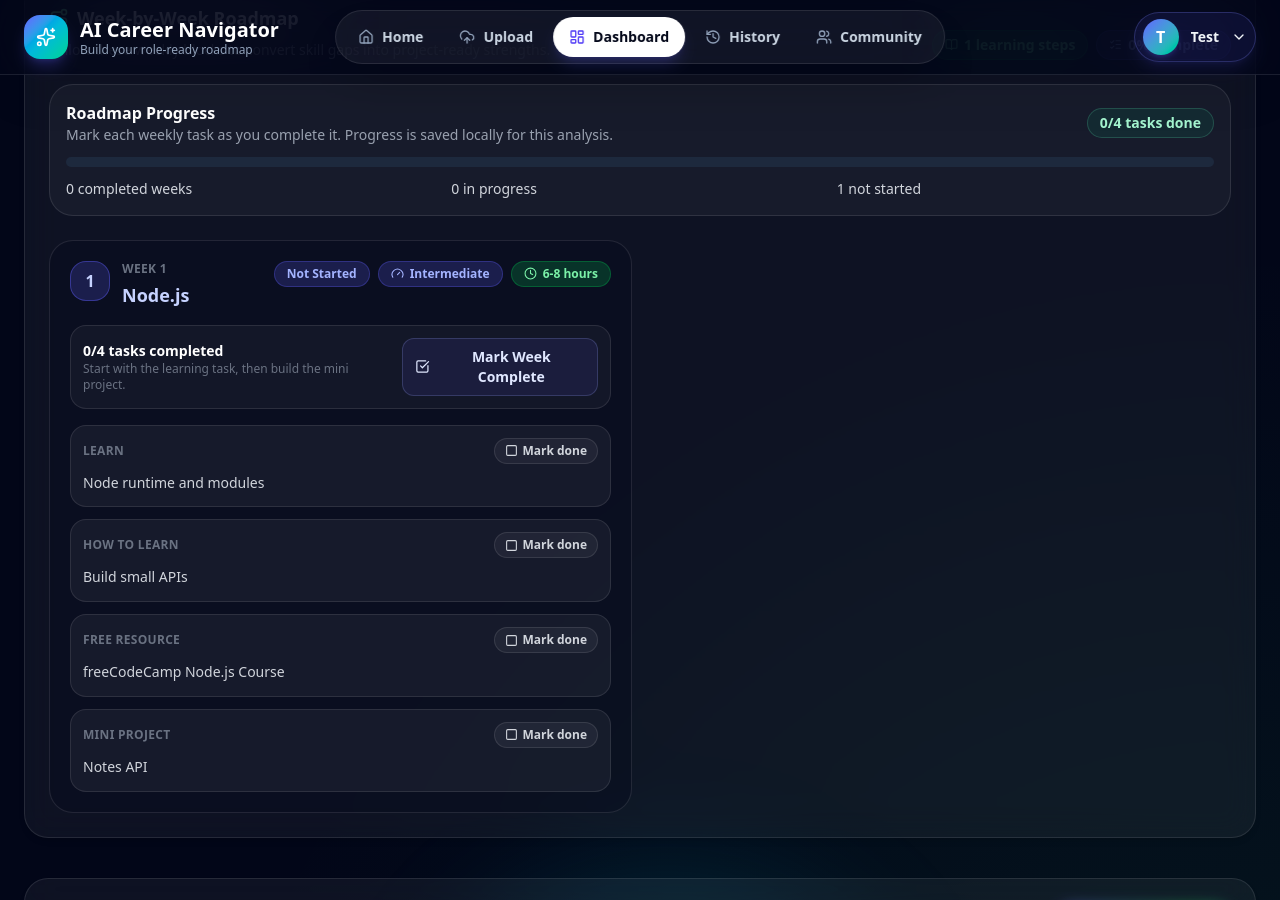
Test: Dashboard Page › lets users mark roadmap tasks as complete
(page scrolled)
Expected: the heading "Roadmap Progress" is shown, [66, 102, 215, 124]
Click the button with aria-label "Mark complete Learn for Week 1": {"x": 546, "y": 450} [494, 438, 598, 464]
(page scrolled)
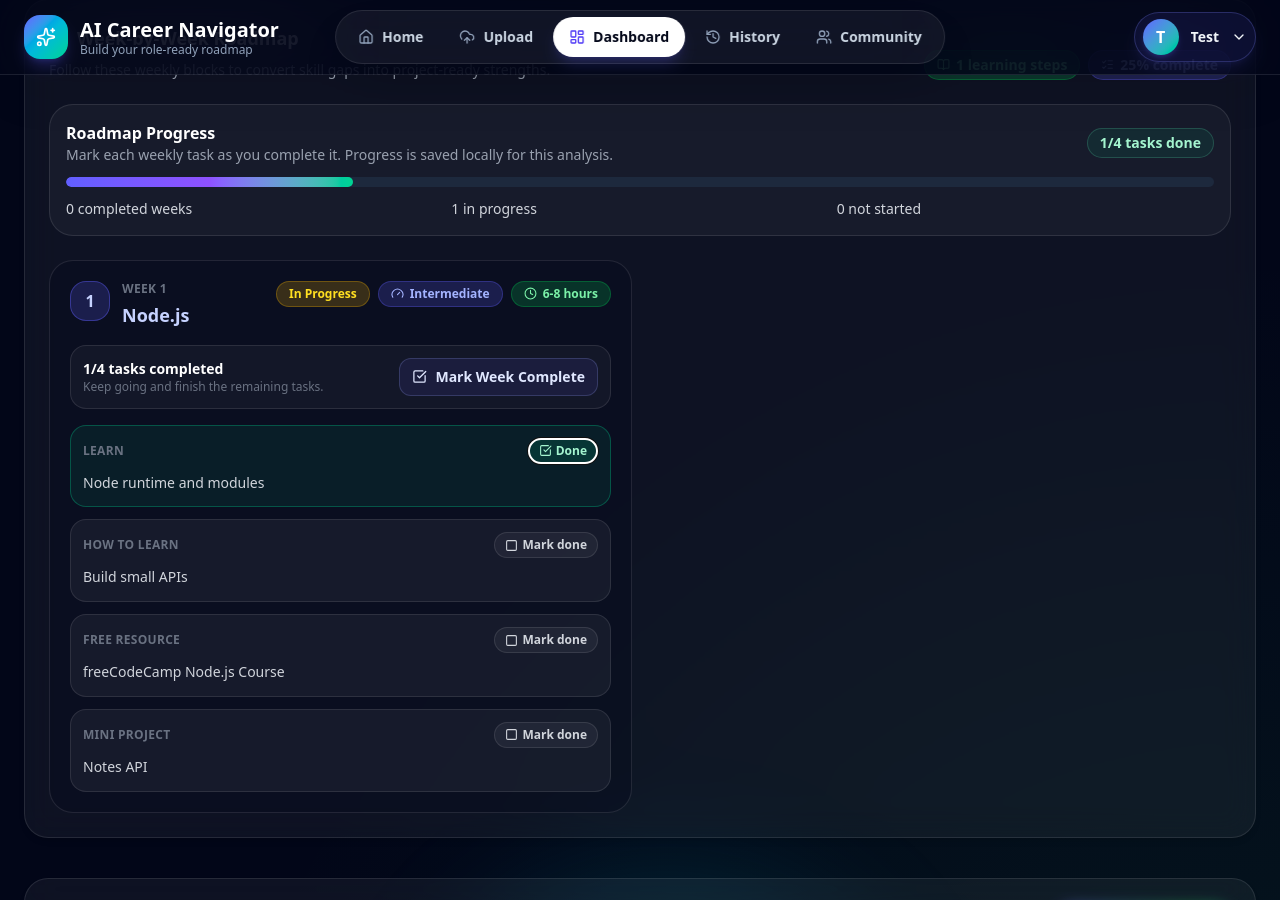
Expected: the button with aria-label "Mark incomplete Learn for Week 1" is shown, [528, 438, 598, 464]
Expected: the text "1/4 tasks done" is shown, [1087, 128, 1214, 158]
